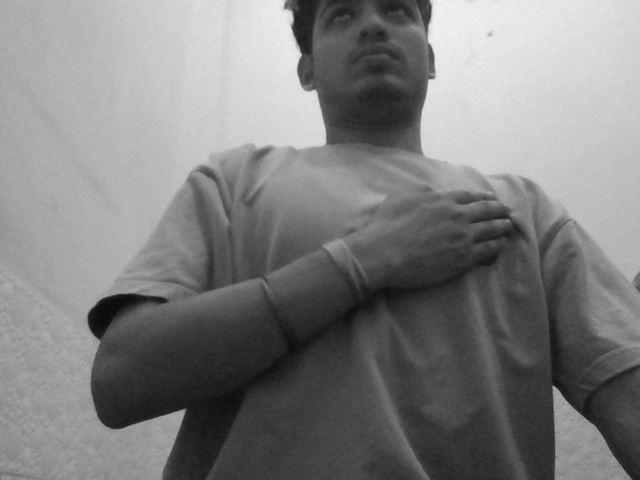Sorry: (338, 157, 561, 328)
